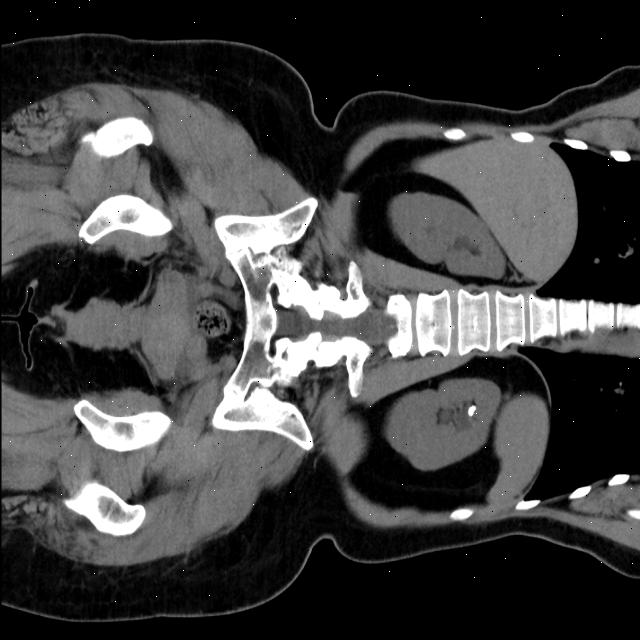kidneystone: (466, 403, 476, 417)
